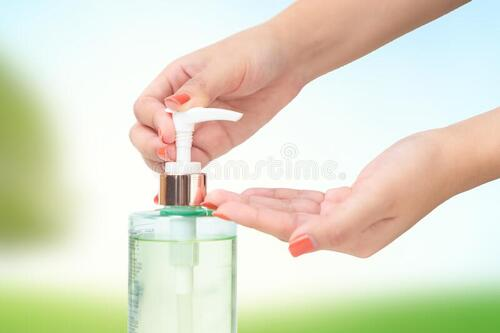sanitizer: (123, 102, 241, 328)
